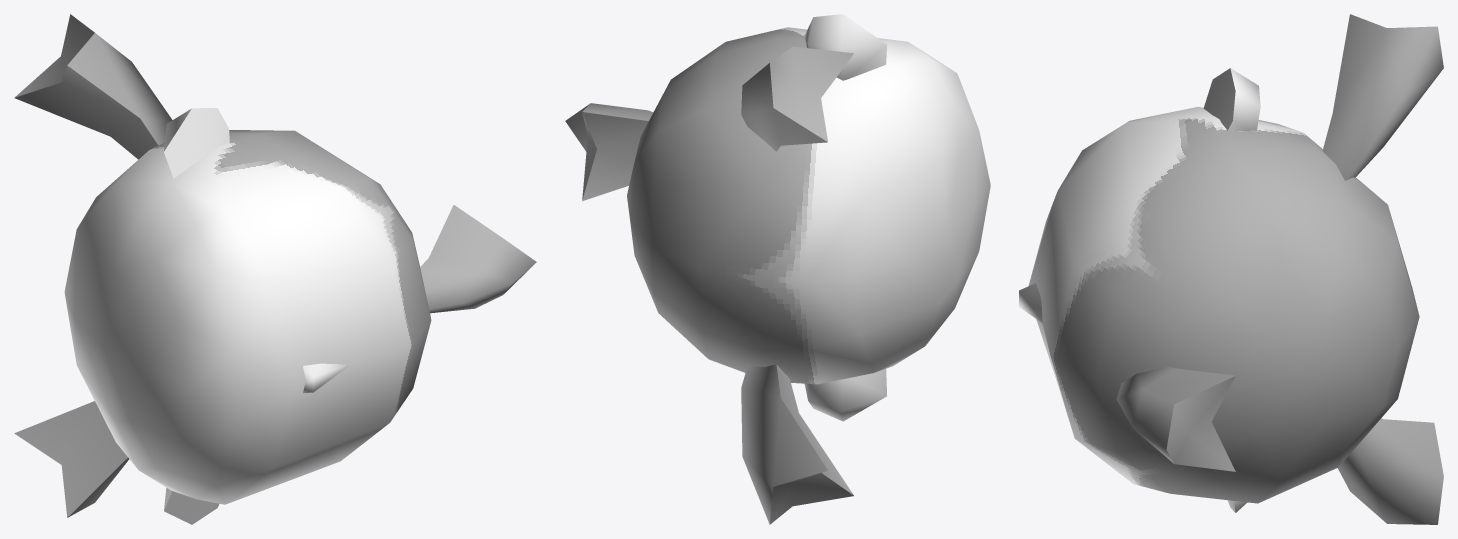
The model's file is girl03a.dae.
3 renders of one model, left to right at view 1: azimuth 30°, elevation 25°; view 2: azimuth 150°, elevation 25°; view 3: azimuth 270°, elevation 25°, orthographic. The views are drawn at different scales.
Visible parts, largest first — view 1: girl03a; view 2: girl03a; view 3: girl03a.
Boxes of the visible parts, left/top/right/bottom form: girl03a: left=14, top=14, right=536, bottom=524; girl03a: left=565, top=14, right=990, bottom=524; girl03a: left=1019, top=14, right=1443, bottom=524.
Size of the model in its own units: 27.67 by 30.29 by 23.4.
Materials: 3 (1 with a texture image).
